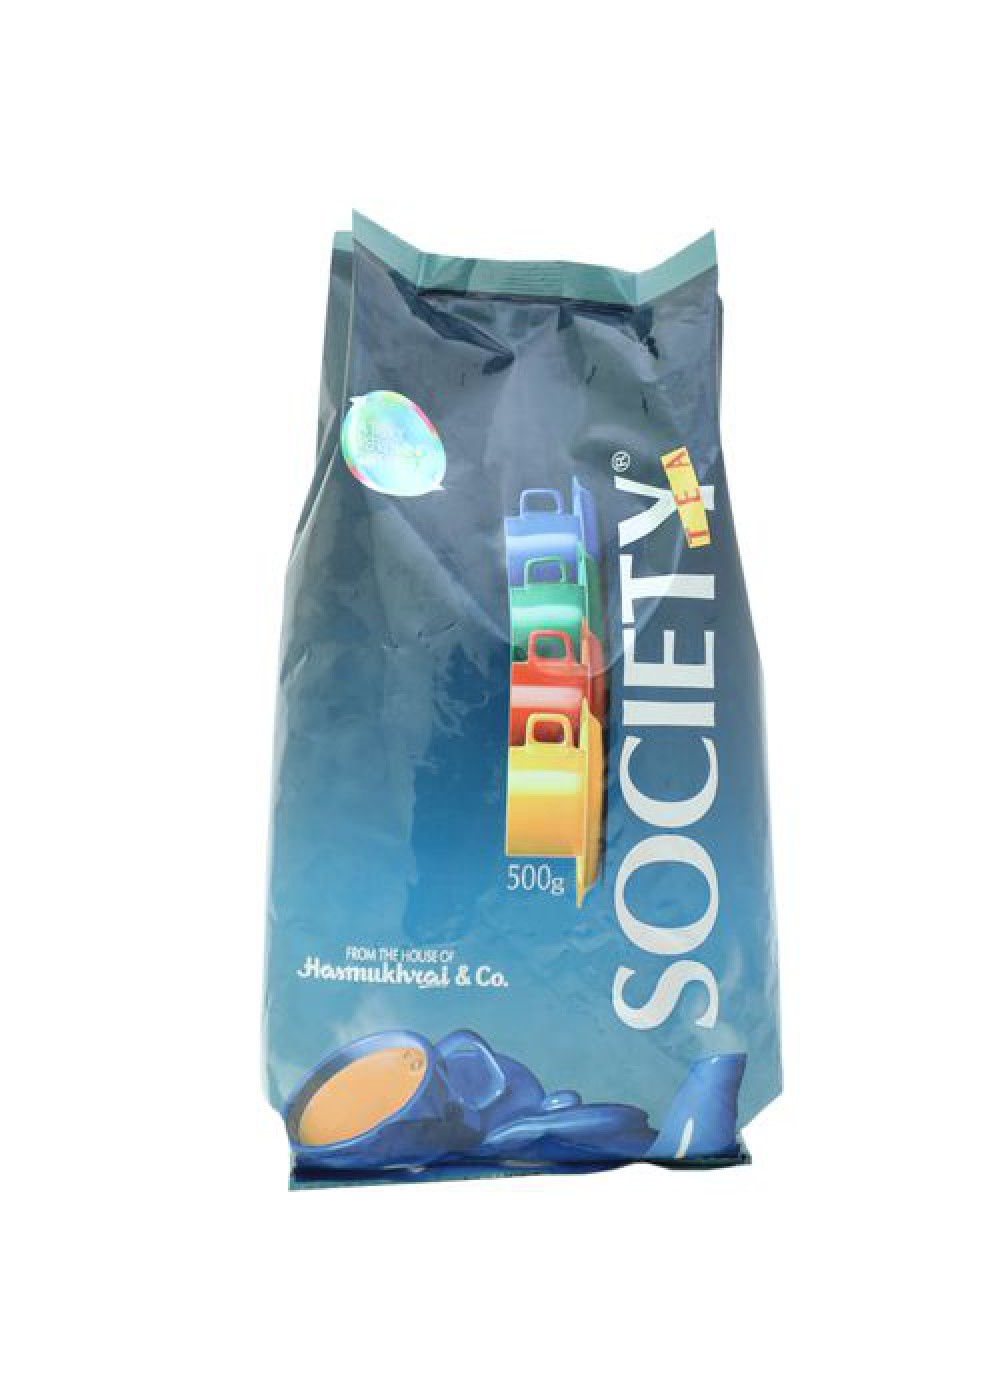society: (254, 232, 782, 1179)
